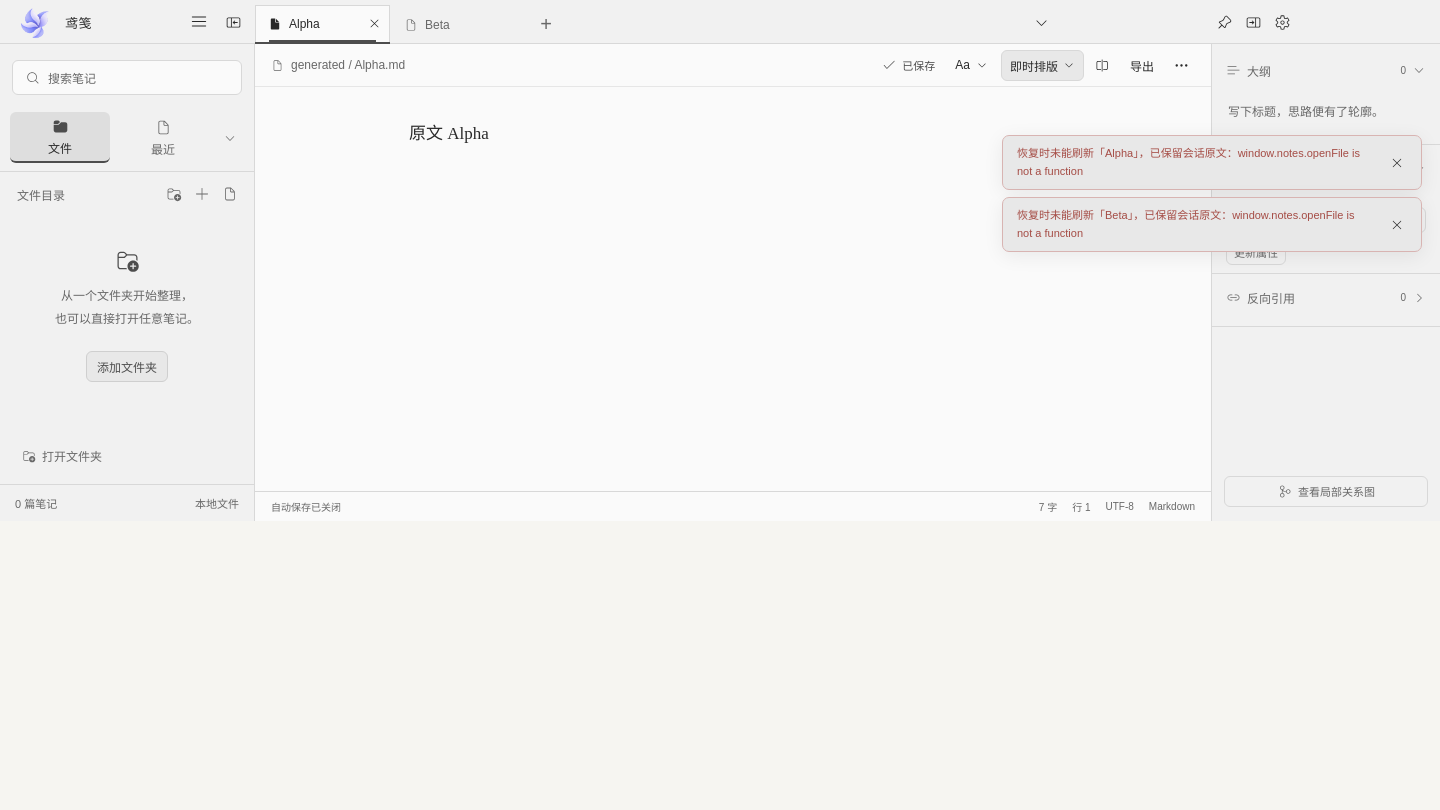
Scenario: offers each CSV source in order and can cancel the second without losing the first draft
What coordinates should you click on to do the following:
click the button named "应用菜单"
I would click on:
 (199, 22)
Its box is [185, 8, 213, 36].
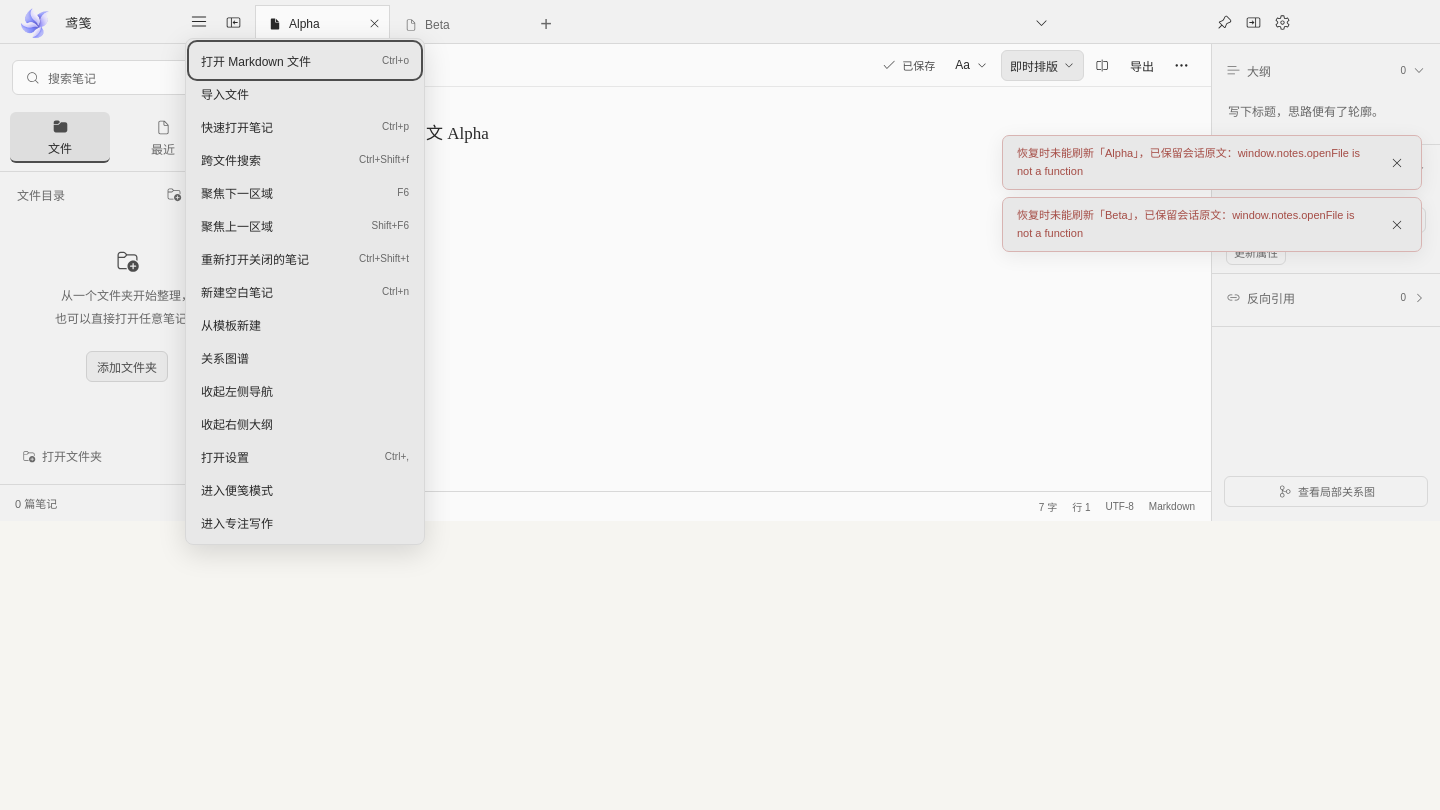
What coordinates should you click on to do the following:
click the menu item "导入文件"
I would click on:
 (305, 94)
Its box is [191, 77, 419, 110].
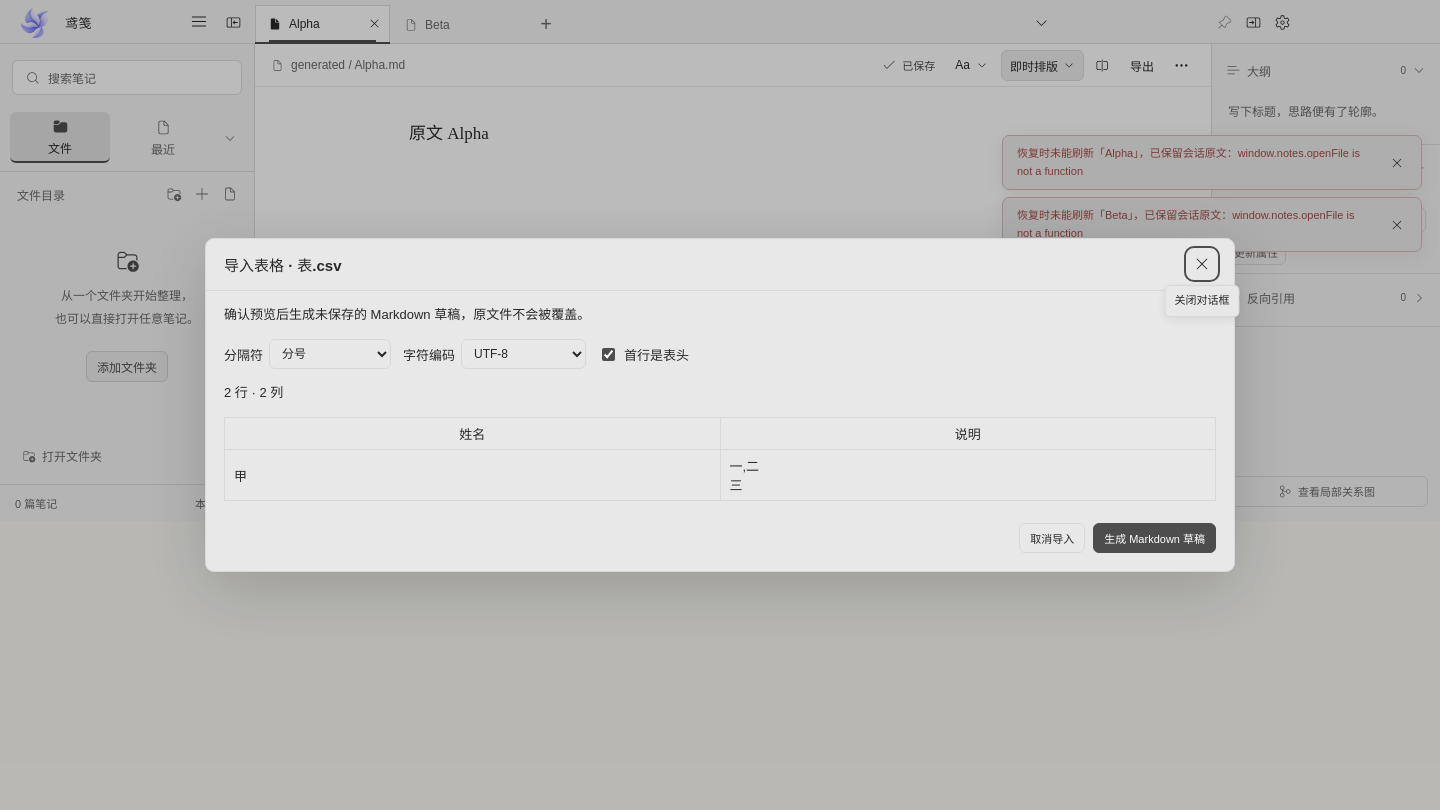
What coordinates should you click on to do the following:
click the button "生成 Markdown 草稿"
I would click on:
 (1155, 538)
Its box is [1093, 523, 1216, 553].
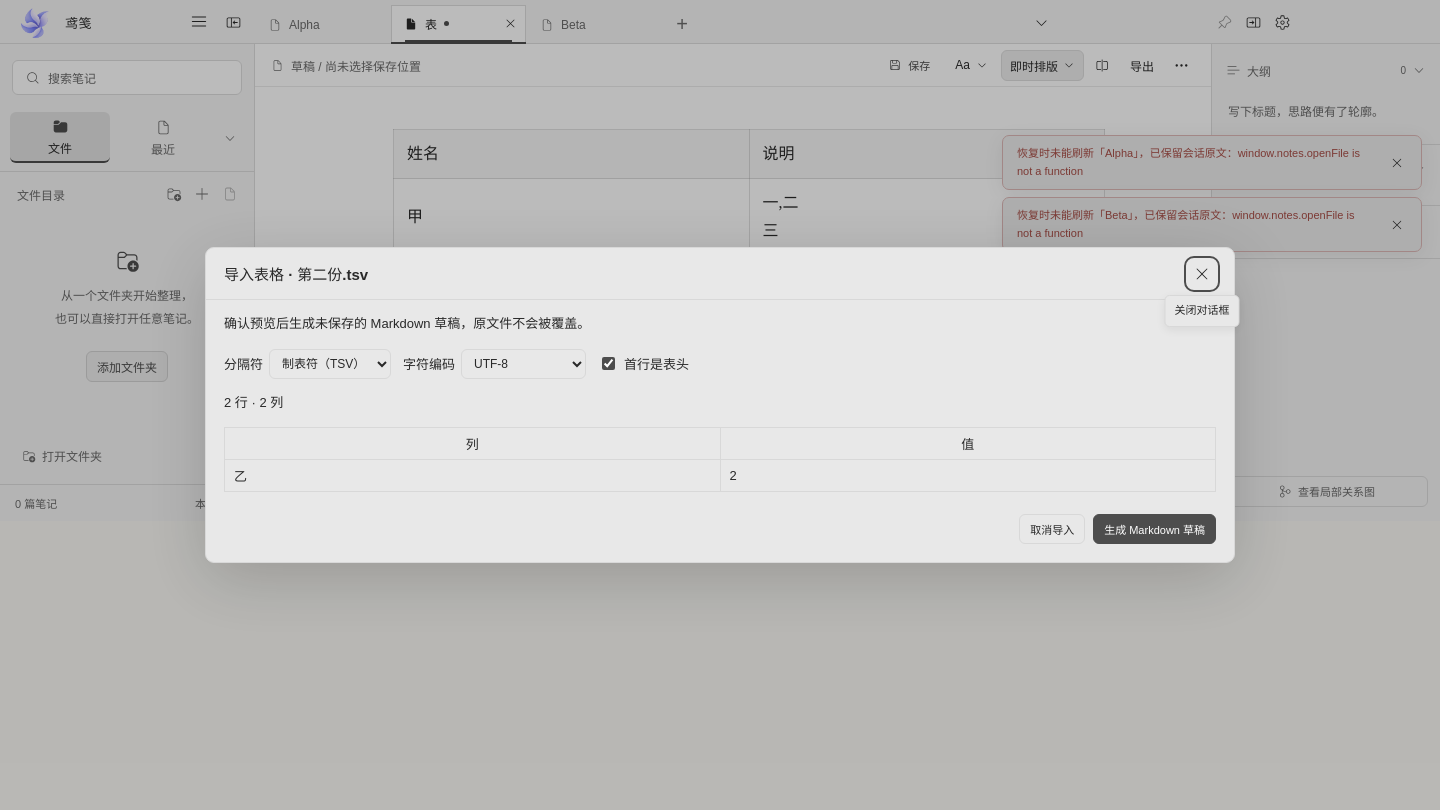
expect the text "导入表格 · 第二份.tsv" is shown: met, box [224, 263, 368, 284]
What coordinates should you click on to do the following:
click the button "取消导入"
I would click on:
 (1052, 529)
Its box is [1019, 514, 1085, 544].
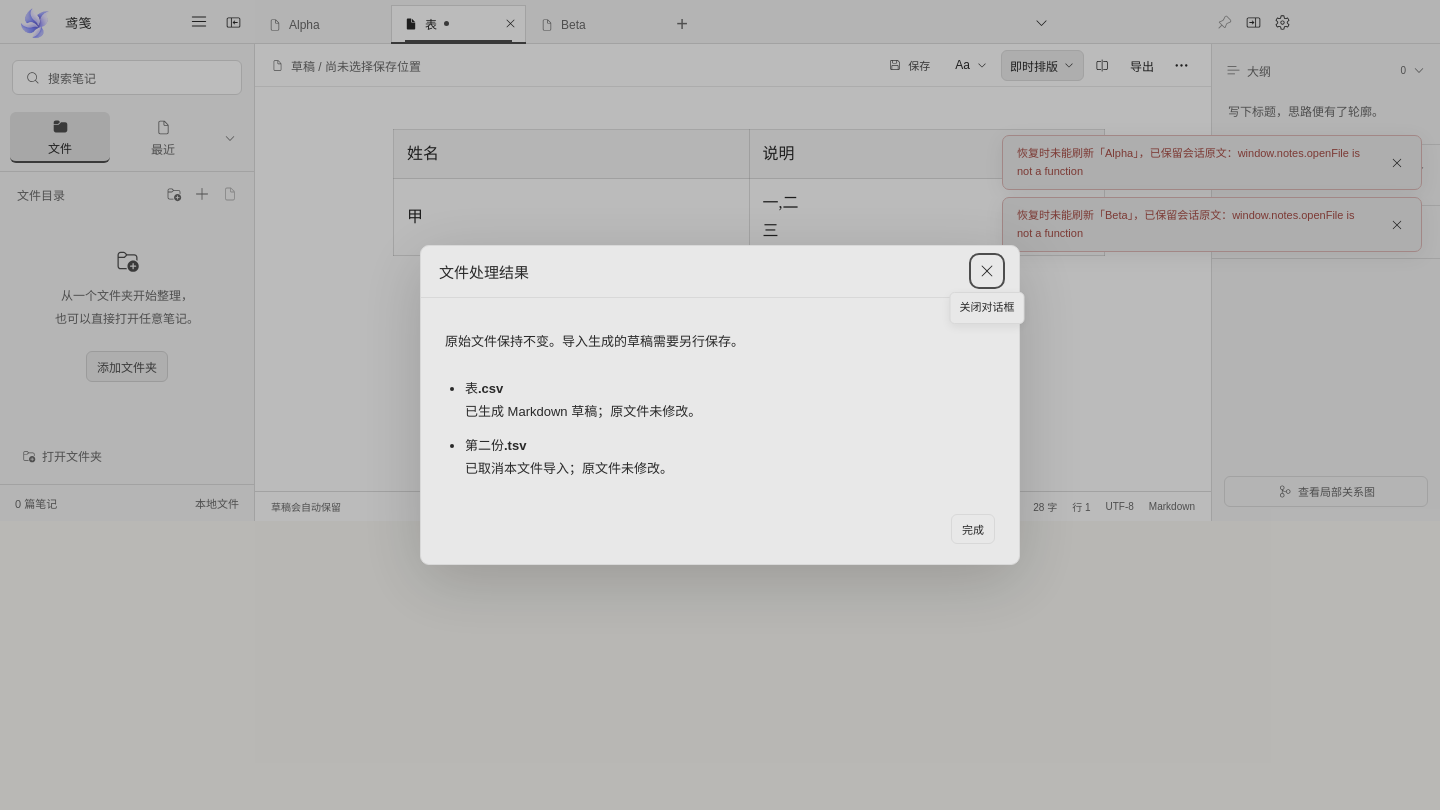
expect the text "已取消本文件导入" is shown: met, box [465, 461, 673, 476]
